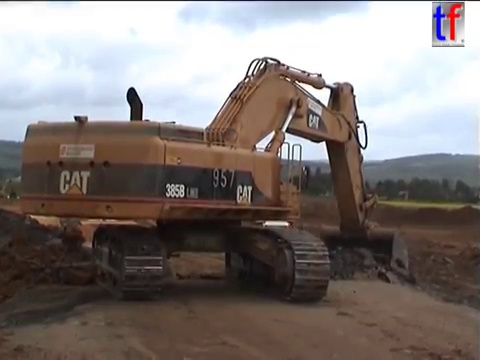excavator: (15, 53, 418, 307)
truck: (1, 211, 144, 323), (72, 216, 168, 293)
